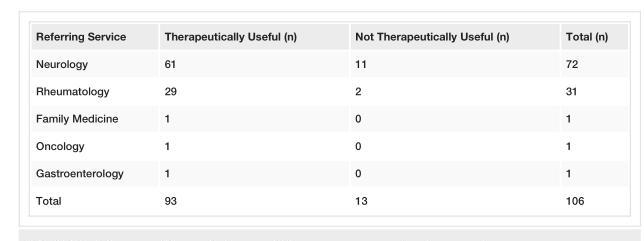table: (35, 34, 607, 204)
table column: (325, 34, 536, 204), (144, 34, 325, 204), (35, 34, 144, 204), (536, 34, 607, 204)
table row: (35, 105, 607, 133), (35, 160, 607, 188), (35, 51, 607, 78), (35, 78, 607, 105), (35, 133, 607, 160), (35, 34, 607, 51), (35, 188, 607, 204)
